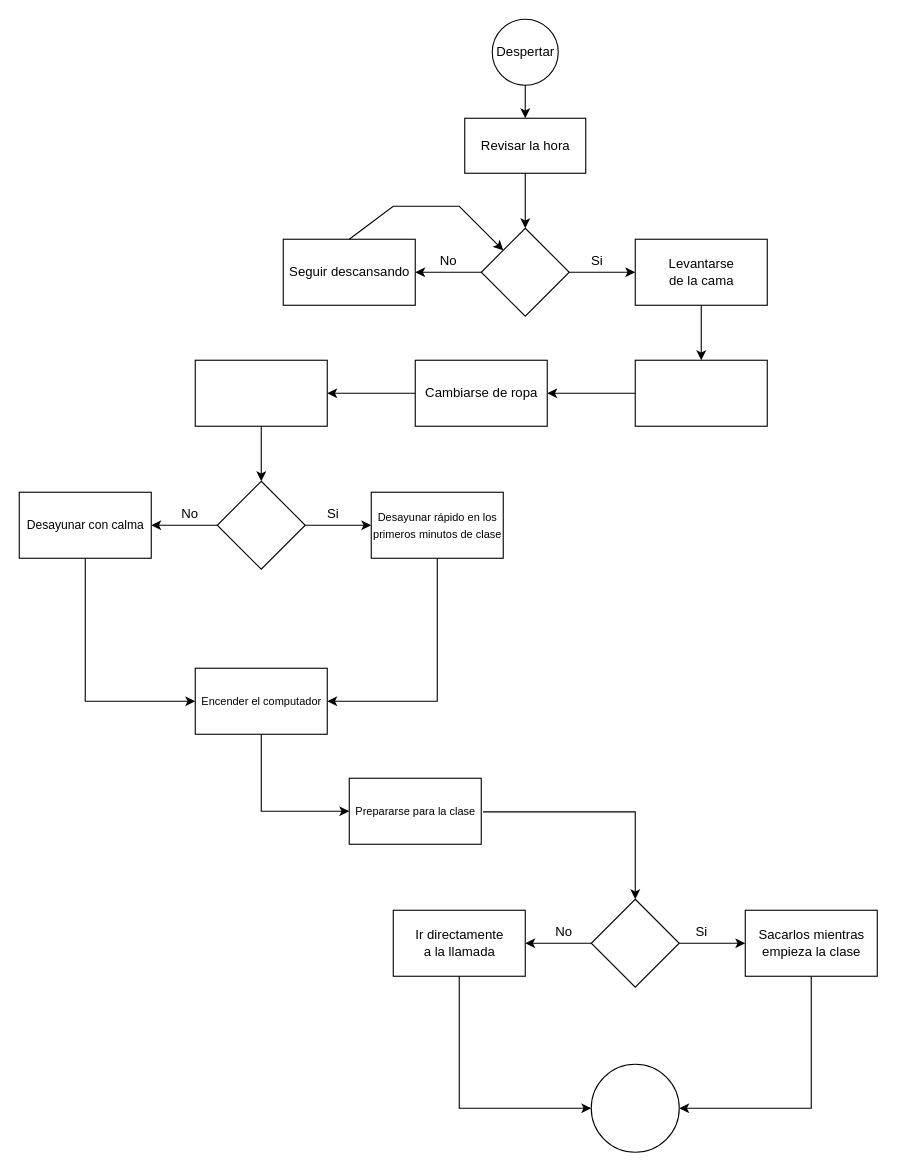
Some shapes in this 897 by 1172 pixel diagram are drawn without their labels. The centre of each missing label's shape, as x and y in pixels:
"Desayunar" goes at pixel 260 392.
"Ducharse" goes at pixel 700 392.
"Empezar a prestar atención a la clase" goes at pixel 634 1107.
"¿La clase es muy temprano?" goes at pixel 260 524.
"¿Se necesita cuaderno, teléfono?" goes at pixel 634 942.
"¿Ya es hora de levantarse?" goes at pixel 524 271.
